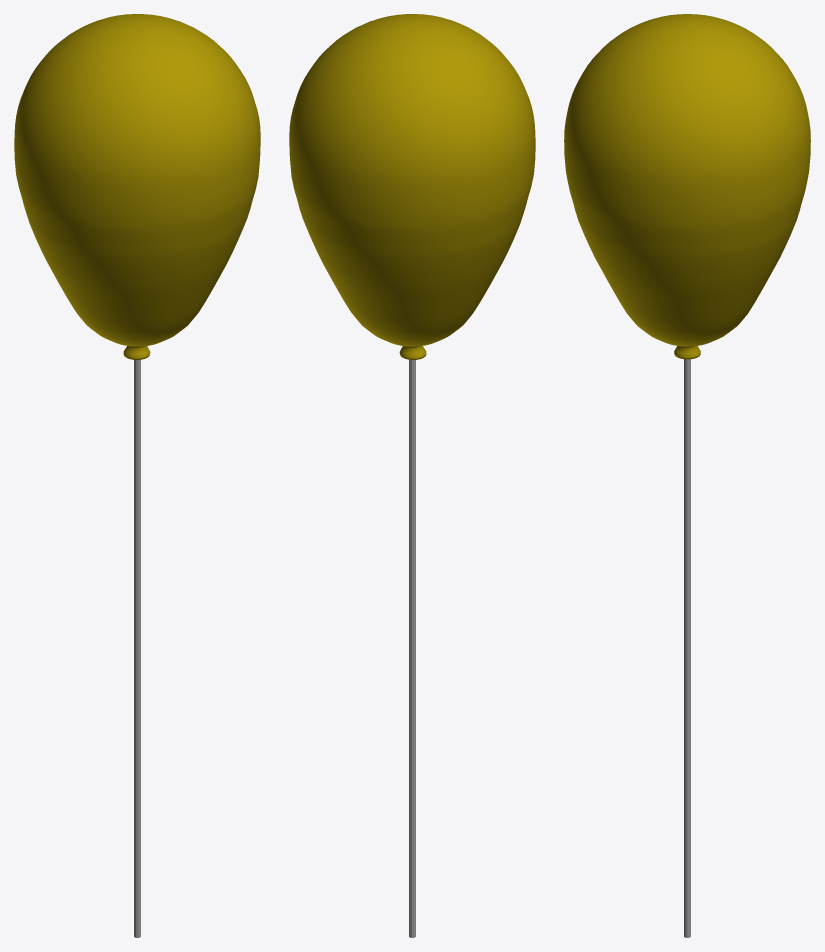
The model's file is ballon.fbx.
3 views of the same model, side by side, from view 1: azimuth 30°, elevation 25°; view 2: azimuth 150°, elevation 25°; view 3: azimuth 270°, elevation 25° (orthographic).
Parts seen in each view (by area): view 1: Balloon; view 2: Balloon; view 3: Balloon.
Part boxes in pixels (x1,y1,x2,y2): Balloon: (14, 14, 260, 937); Balloon: (289, 14, 535, 937); Balloon: (564, 14, 810, 937).
Size of the model in its own units: 30.85 by 126 by 30.85.
